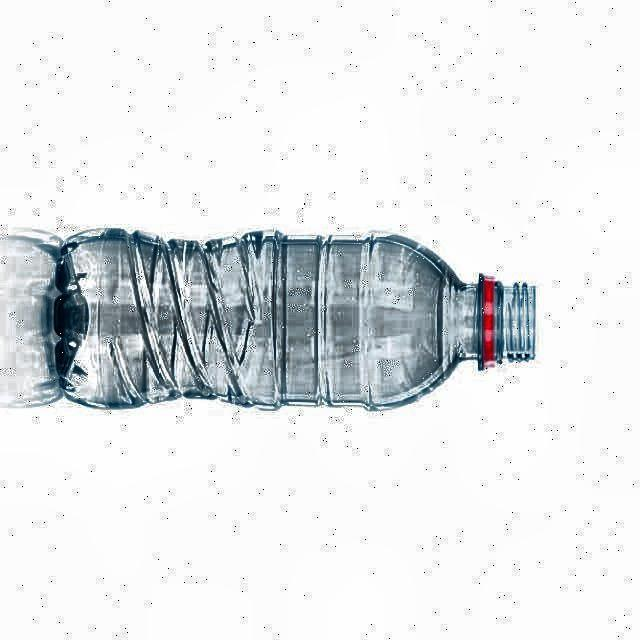plastic: (54, 229, 533, 407)
